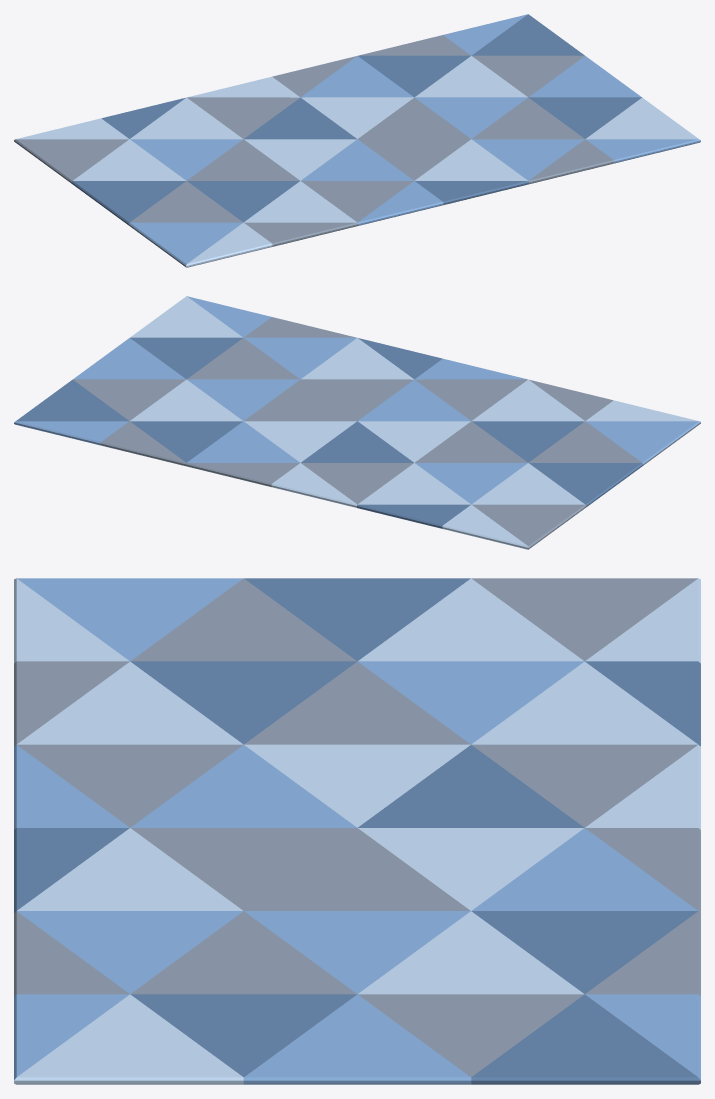
Rendered from epuypdA3tpO.glb.
3 views of the same model, one above another, from view 1: azimuth 30°, elevation 25°; view 2: azimuth 150°, elevation 25°; view 3: azimuth 270°, elevation 25° (orthographic). The views are drawn at different scales.
Parts seen in each view (by area): view 1: Rug; view 2: Rug; view 3: Rug.
Part boxes in pixels (x1,y1,x2,y2): Rug: (14, 14, 700, 267); Rug: (14, 296, 700, 549); Rug: (14, 578, 700, 1084).
Bounding box in the file's own units: 148 × 0.9951 × 85.84.
1 material, 1 textured.
